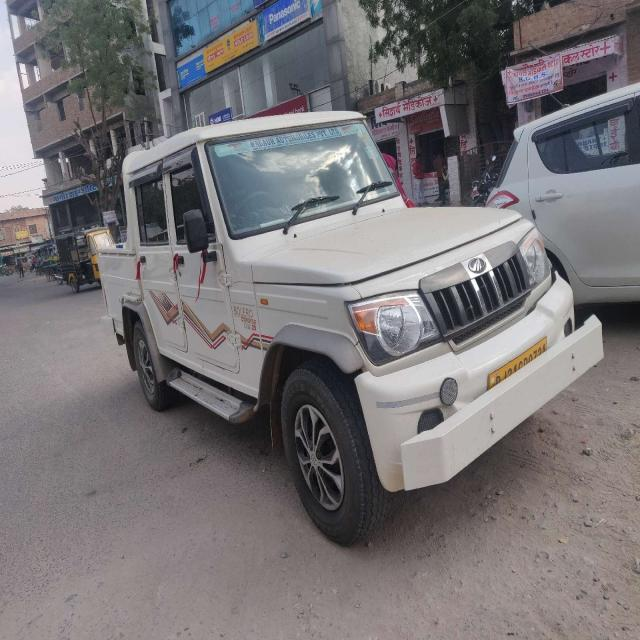light_vehicle: (102, 124, 574, 414)
